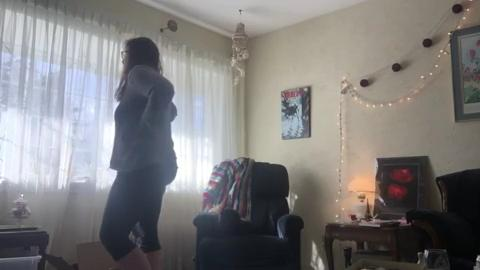blanket: (201, 156, 252, 222)
light: (333, 1, 473, 223), (345, 177, 381, 221)
person: (98, 37, 177, 269)
picture: (372, 155, 425, 218), (449, 25, 479, 121), (281, 85, 311, 140)
sofa_couch: (193, 161, 304, 269), (405, 168, 479, 269)
table_desk: (324, 222, 420, 269), (1, 224, 49, 269)
